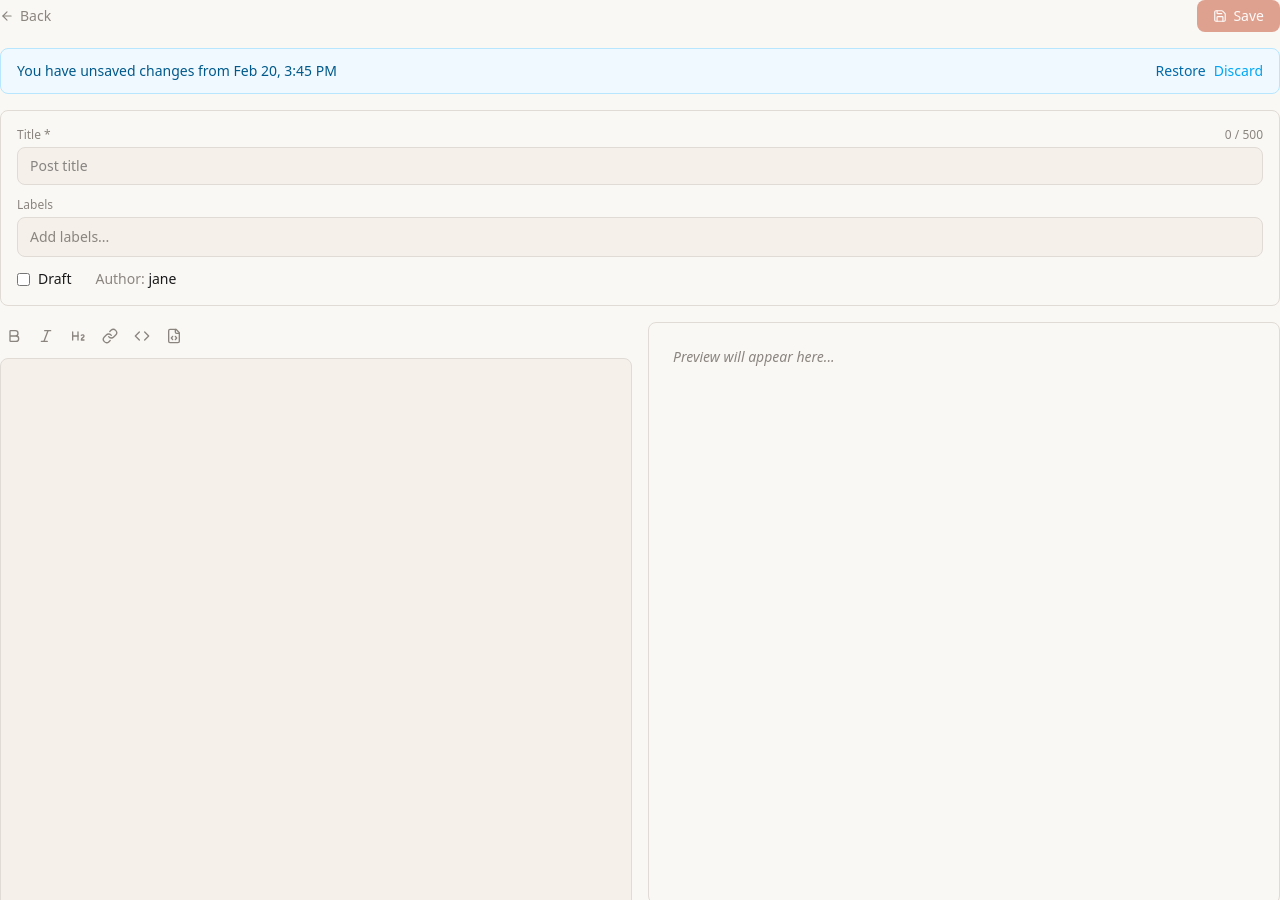
it: EditorPage › dismisses banner and clears draft when Discard is clicked
Click the button "Discard". click: (1238,71)
box: [1214,61,1263,81]
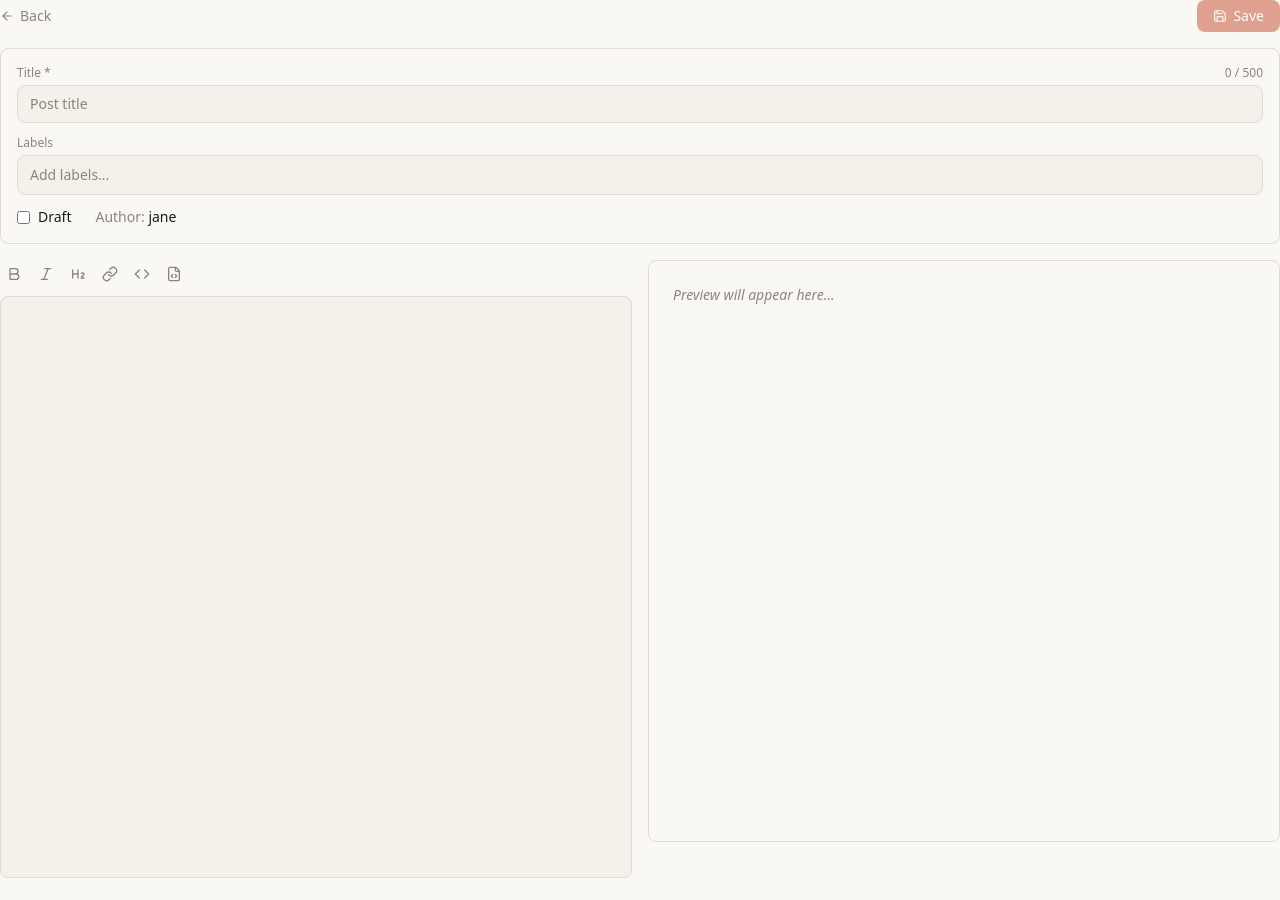
Expected: the text "unsaved changes" is gone
